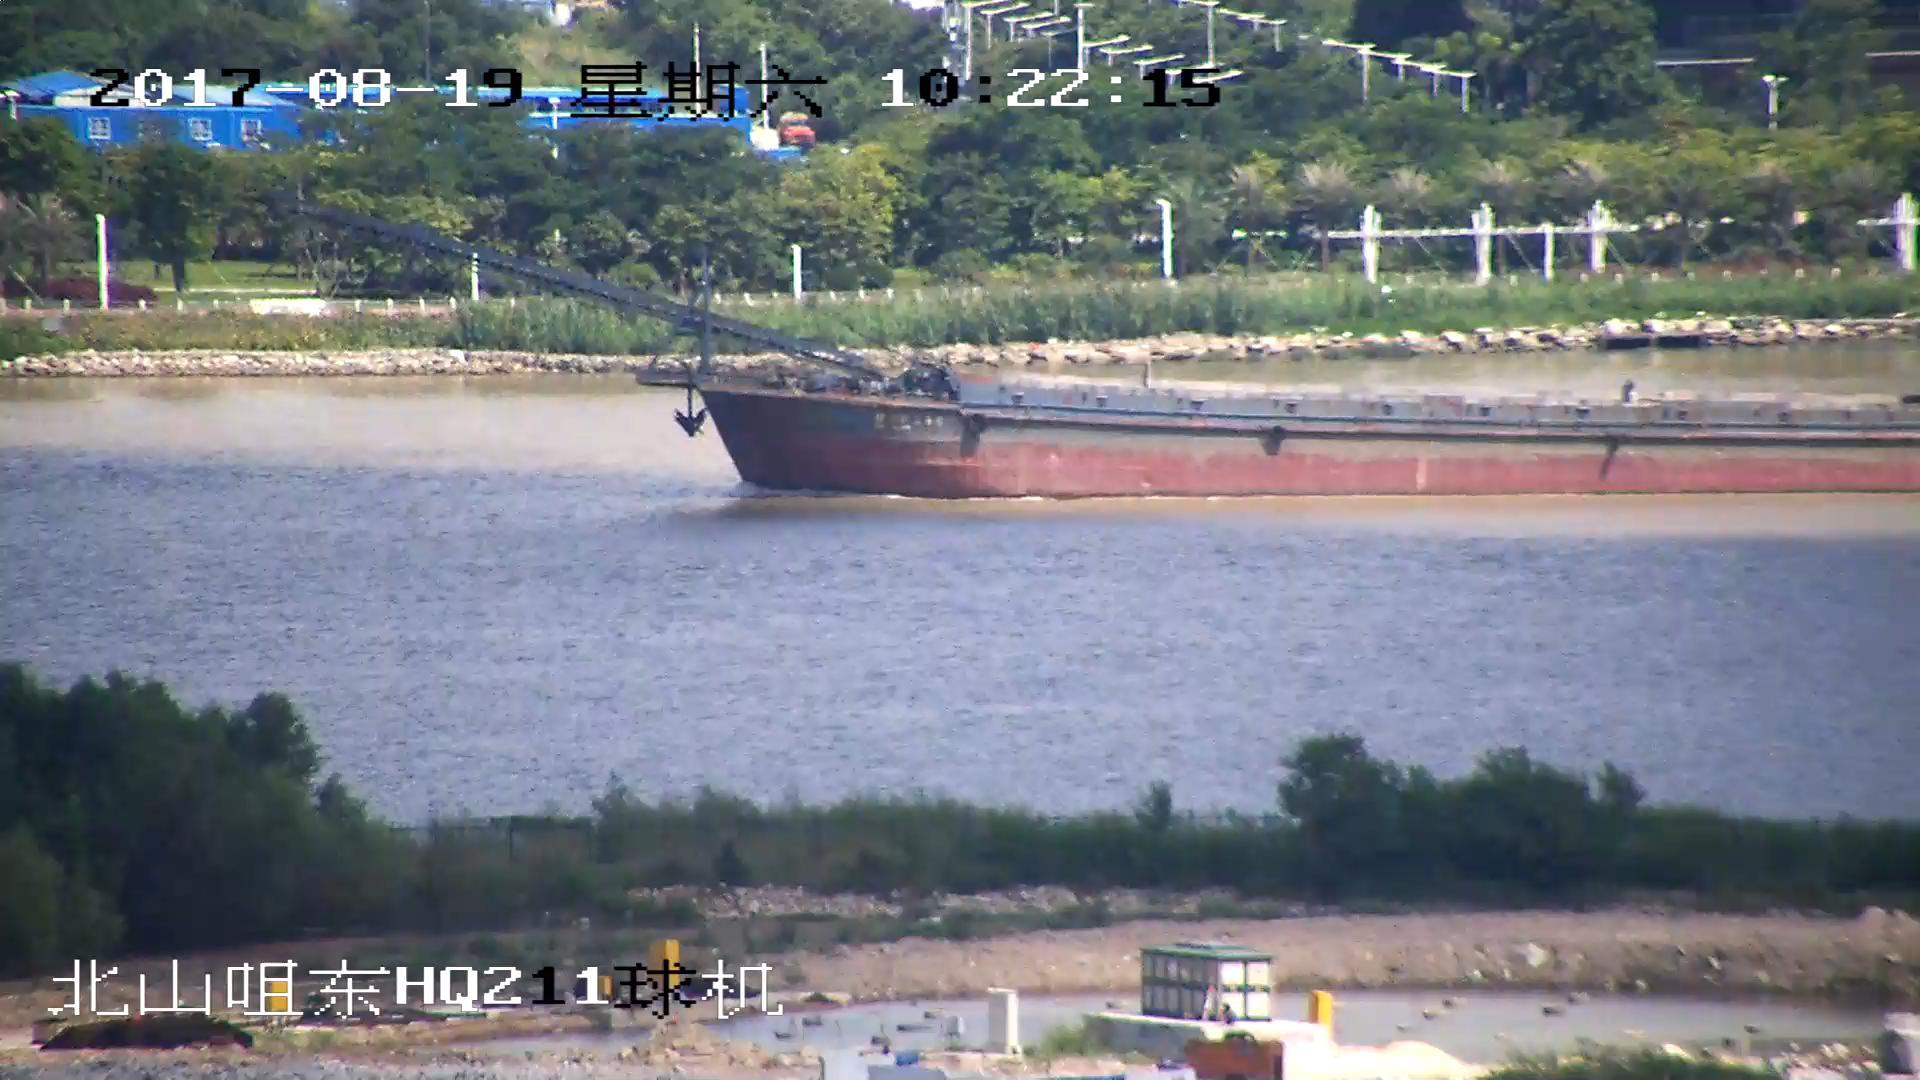Ship: (320, 220, 1920, 498)
